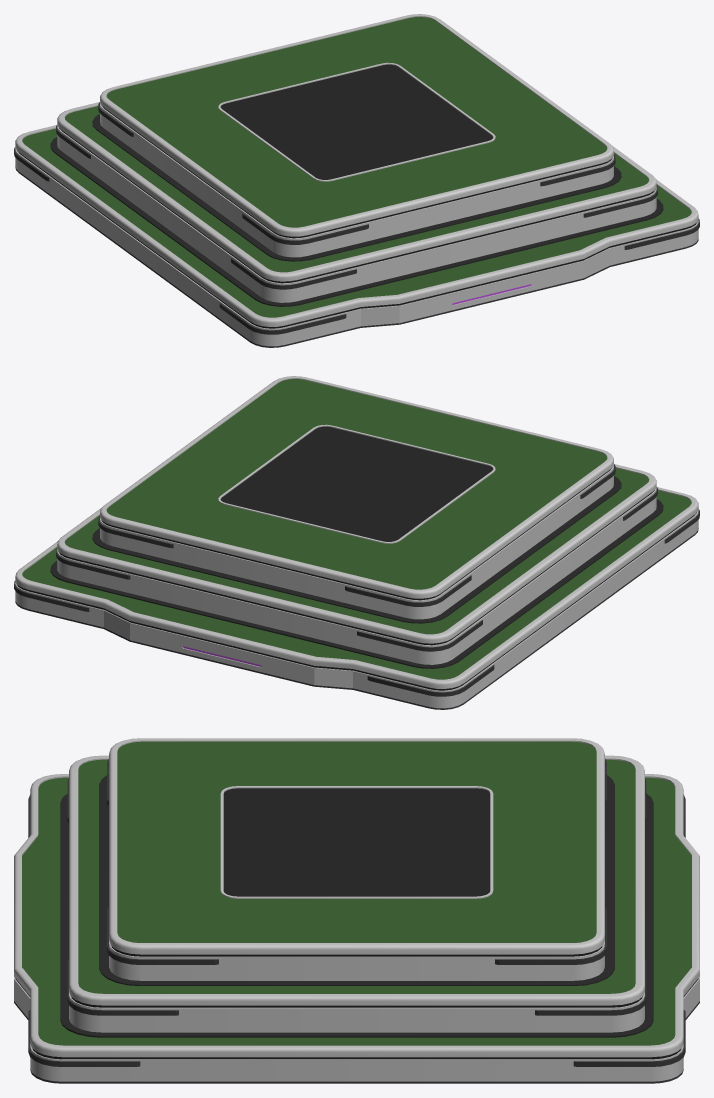
Rendered from W_O_Forum_Flowerbed_001_L0.fbx.
3 views of the same model, one above another, from view 1: azimuth 30°, elevation 25°; view 2: azimuth 150°, elevation 25°; view 3: azimuth 270°, elevation 25° (orthographic). The views are drawn at different scales.
Parts seen in each view (by area): view 1: W_O_Forum_Flowerbed_001_L0; view 2: W_O_Forum_Flowerbed_001_L0; view 3: W_O_Forum_Flowerbed_001_L0.
Part boxes in pixels (x1,y1,x2,y2): W_O_Forum_Flowerbed_001_L0: (14,14,699,347); W_O_Forum_Flowerbed_001_L0: (14,376,699,709); W_O_Forum_Flowerbed_001_L0: (14,738,699,1083).
Bounding box in the file's own units: 12.07 × 2.1 × 12.6.
